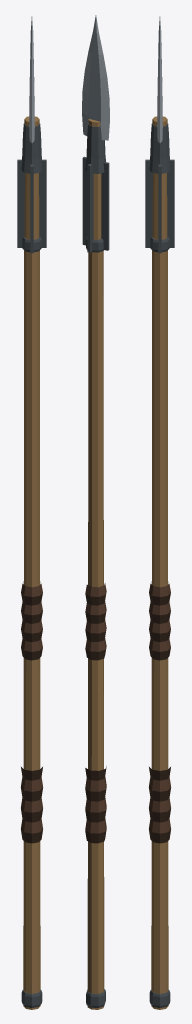
File: wpn_spear.glb
The picture shows the model from 3 angles, left to right: view 1: azimuth 90°, elevation 25°; view 2: azimuth 150°, elevation 25°; view 3: azimuth 270°, elevation 25°; orthographic projection.
Visible parts, largest first — view 1: mdvl_weapons_spear_01_0; view 2: mdvl_weapons_spear_01_0; view 3: mdvl_weapons_spear_01_0.
Part boxes in pixels (x1,y1,x2,y2): mdvl_weapons_spear_01_0: [17, 16, 46, 1009]; mdvl_weapons_spear_01_0: [82, 15, 109, 1009]; mdvl_weapons_spear_01_0: [145, 16, 174, 1009].
Size of the model in its own units: 0.0645 by 2.17 by 0.0579.
Materials: 1 (1 with a texture image).
